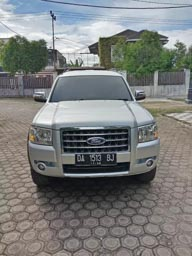plat: (75, 153, 118, 161)
